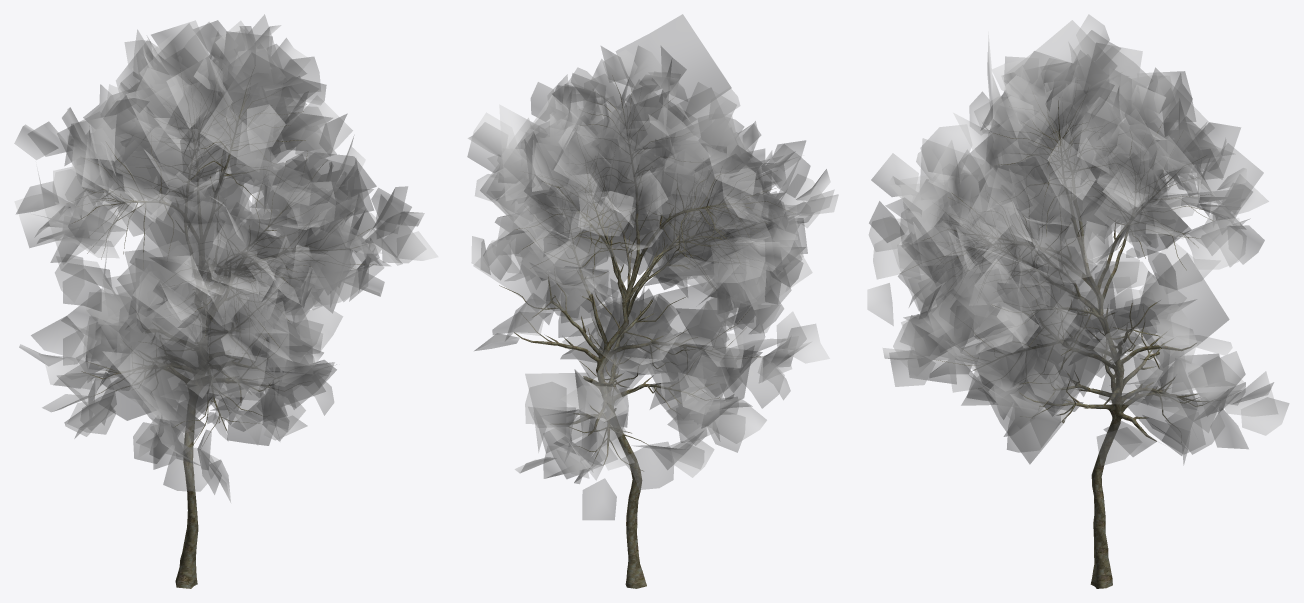
The model's file is Tree.fbx.
3 views of the same model, side by side, from view 1: azimuth 30°, elevation 25°; view 2: azimuth 150°, elevation 25°; view 3: azimuth 270°, elevation 25° (orthographic). The views are drawn at different scales.
Parts seen in each view (by area): view 1: Garden_Tree; view 2: Garden_Tree; view 3: Garden_Tree.
Boxes of the visible parts, x1,y1,x2,y2 form: Garden_Tree: (14,14,437,588); Garden_Tree: (467,14,838,588); Garden_Tree: (867,14,1289,588).
Bounding box in the file's own units: 828 × 1217 × 833.
